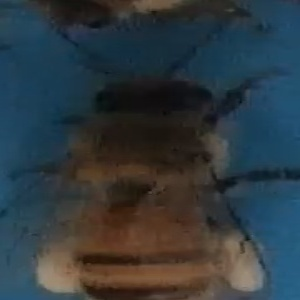bee: (33, 67, 285, 300)
